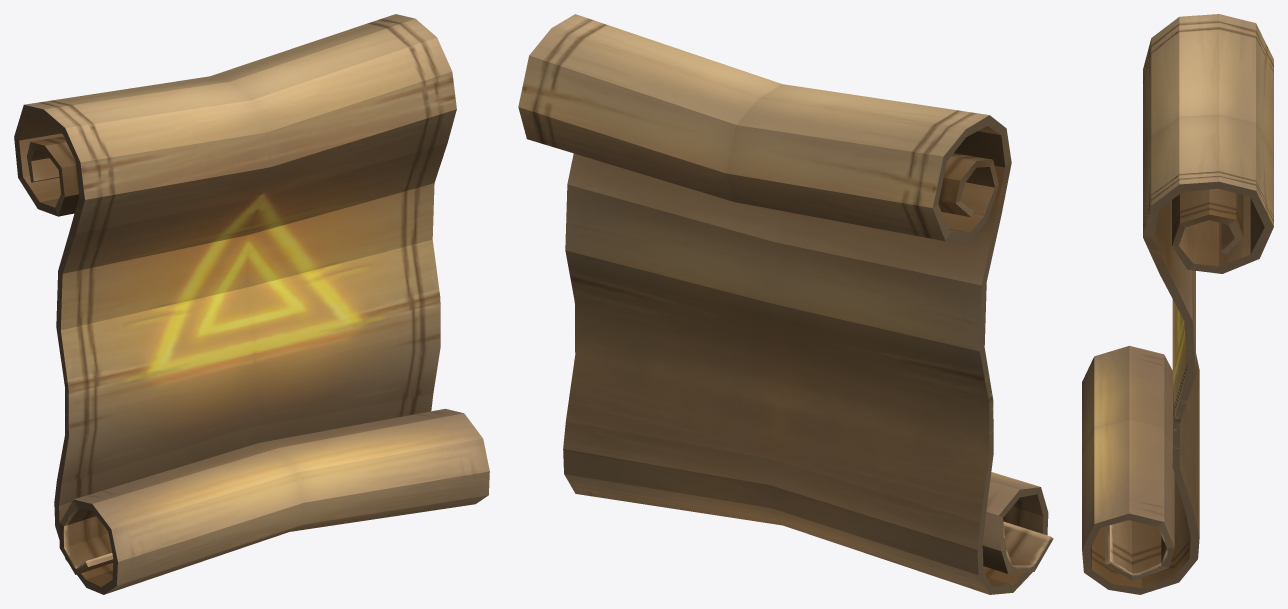
The model's file is 24_roll2.FBX.
The picture shows the model from 3 angles, left to right: view 1: azimuth 30°, elevation 25°; view 2: azimuth 150°, elevation 25°; view 3: azimuth 270°, elevation 25°; orthographic projection. The views are drawn at different scales.
Parts seen in each view (by area): view 1: 24_roll2; view 2: 24_roll2; view 3: 24_roll2.
Boxes of the visible parts, x1,y1,x2,y2 form: 24_roll2: (14, 14, 489, 594); 24_roll2: (518, 14, 1053, 594); 24_roll2: (1082, 14, 1273, 594).
Size of the model in its own units: 39.67 by 42.27 by 17.79.
